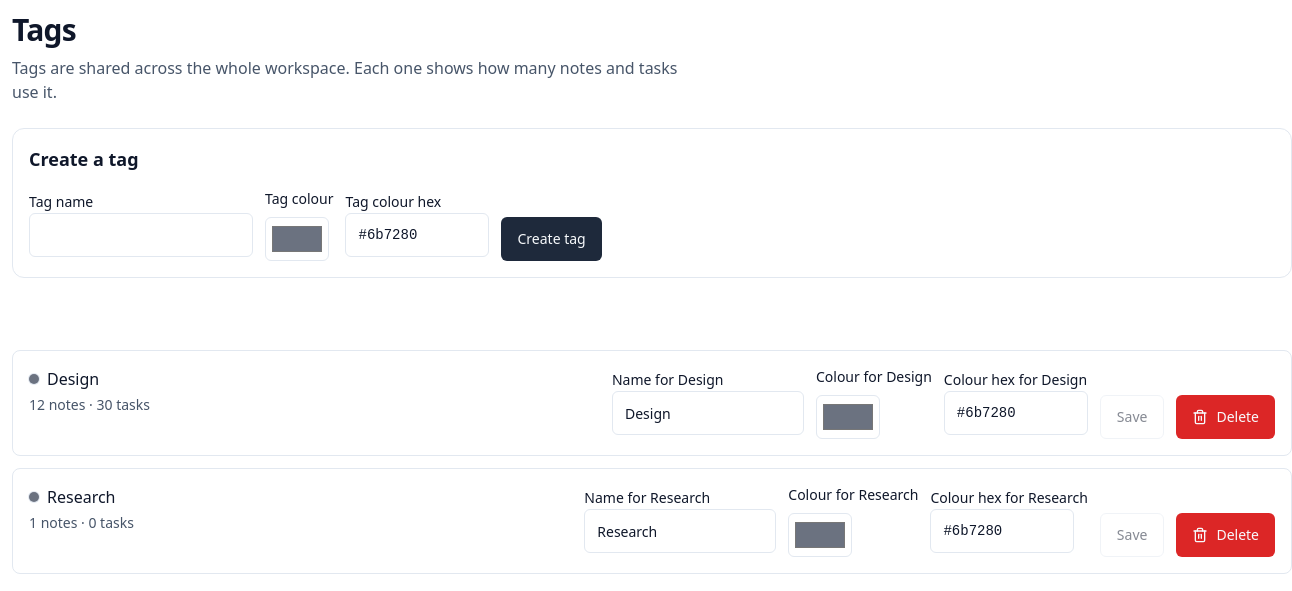
Scenario: TagManager › tells a workspace at its tag limit to delete rather than rename
This screenshot has width=1292, height=591.
Type "Overflow" into the field labelled "Tag name" at (141, 235), box 29,213 -> 253,257
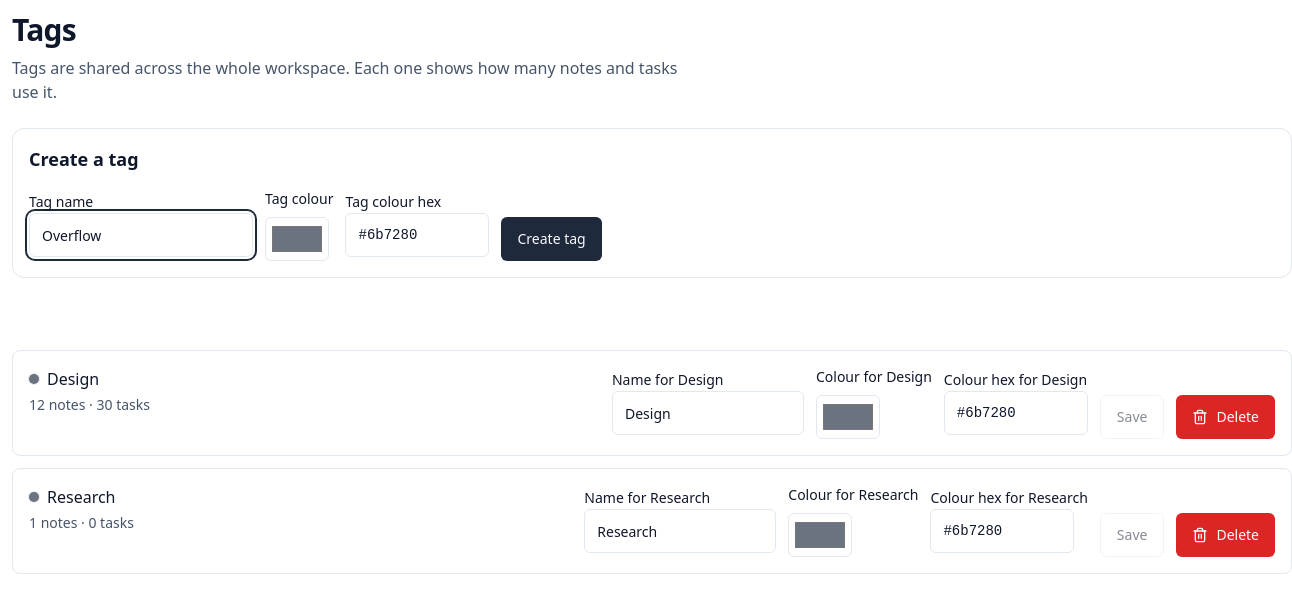
Click the button "Create tag" at (552, 239), box 502,217 -> 602,261
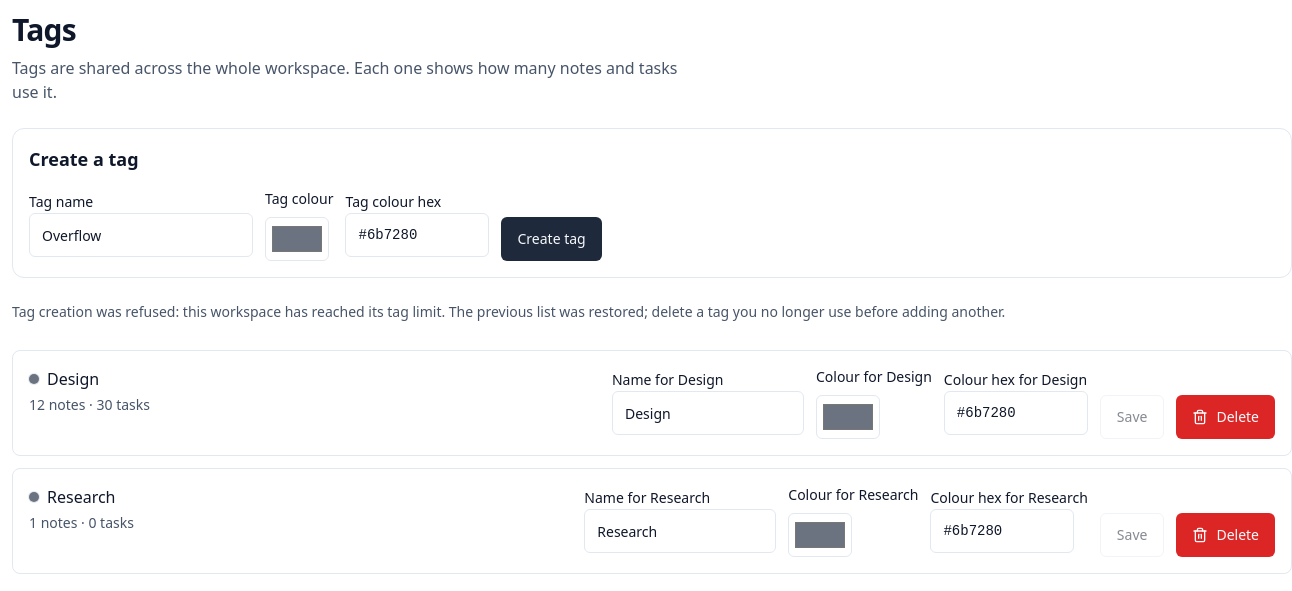
Expected: the message does not show "already exists", 12,302 -> 1005,321
Now the message shows "reached its tag limit", box 12,302 -> 1005,321
